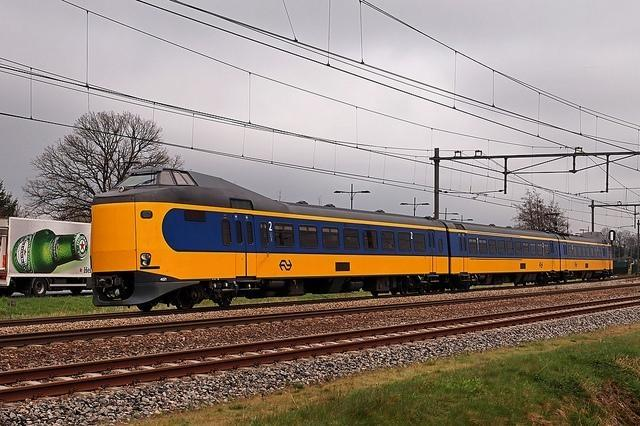truck: (0, 214, 92, 298)
